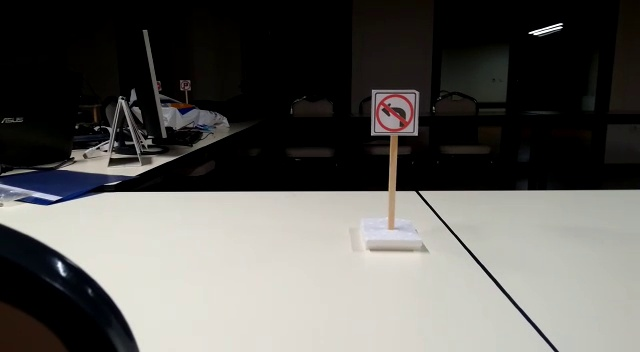sola_donulmez: (372, 90, 418, 136)
